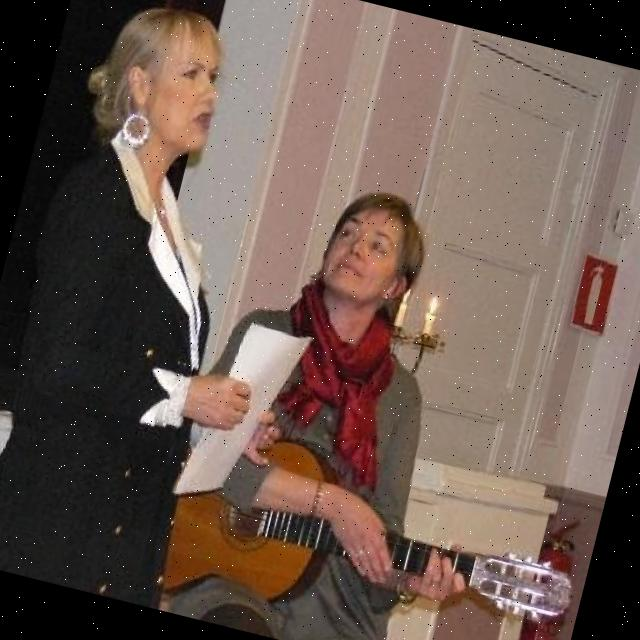guitar: (143, 409, 592, 640)
